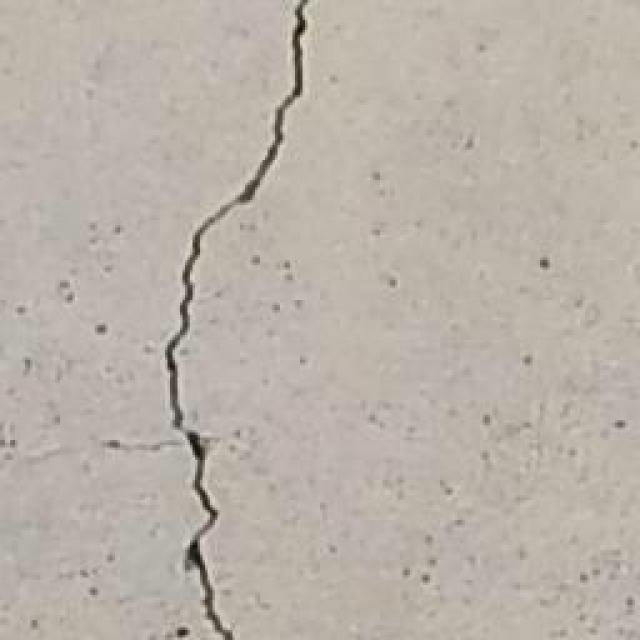concrete-crack: (162, 0, 310, 640)
